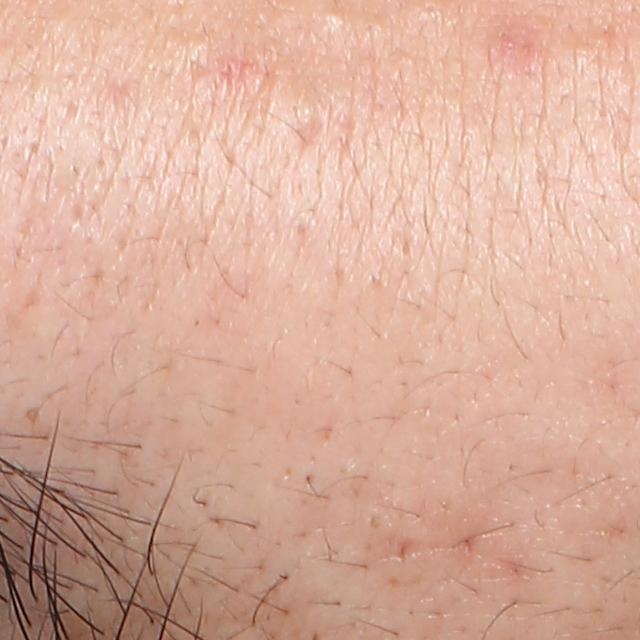atrophic_scar: (290, 113, 320, 150)
comedo: (318, 6, 347, 34), (23, 403, 41, 427)
